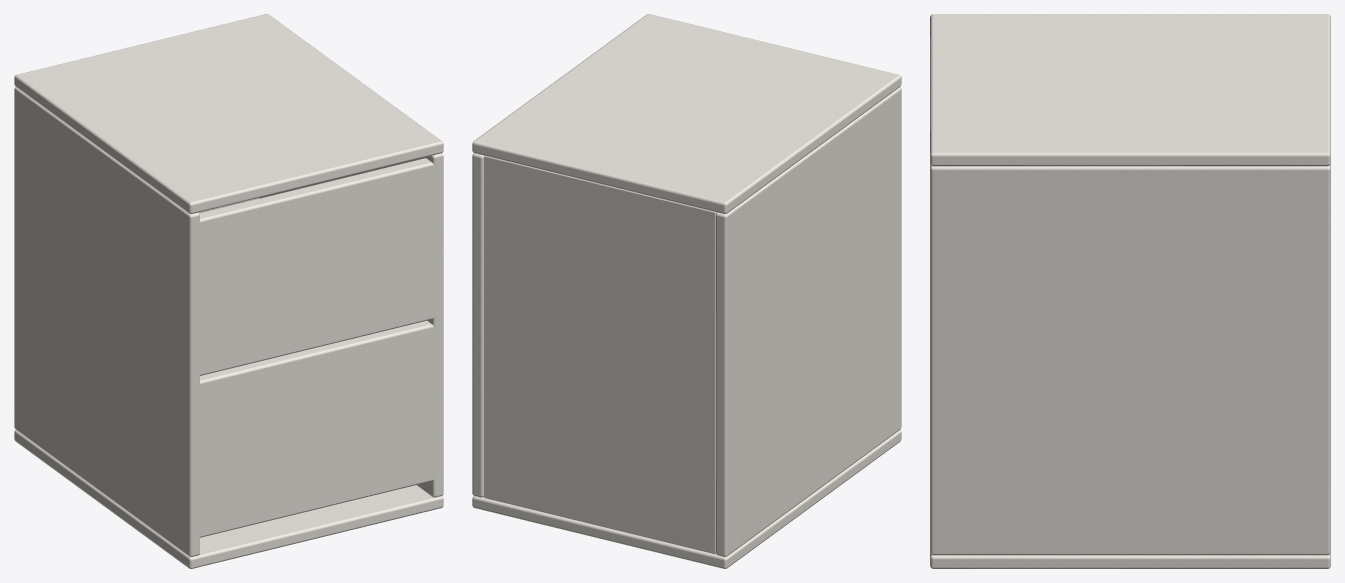
Rendered from malm-bedside-mobile.glb.
The picture shows the model from 3 angles, left to right: view 1: azimuth 30°, elevation 25°; view 2: azimuth 150°, elevation 25°; view 3: azimuth 270°, elevation 25°; orthographic projection. The views are drawn at different scales.
Parts seen in each view (by area): view 1: MALM 2-drawer bedside chest; view 2: MALM 2-drawer bedside chest; view 3: MALM 2-drawer bedside chest.
Part boxes in pixels (<box>): MALM 2-drawer bedside chest: <box>14,14,443,568</box>; MALM 2-drawer bedside chest: <box>472,14,901,568</box>; MALM 2-drawer bedside chest: <box>930,14,1330,568</box>.
Size of the model in its own units: 0.4 by 0.55 by 0.48.
Materials: 1 (1 with a texture image).
